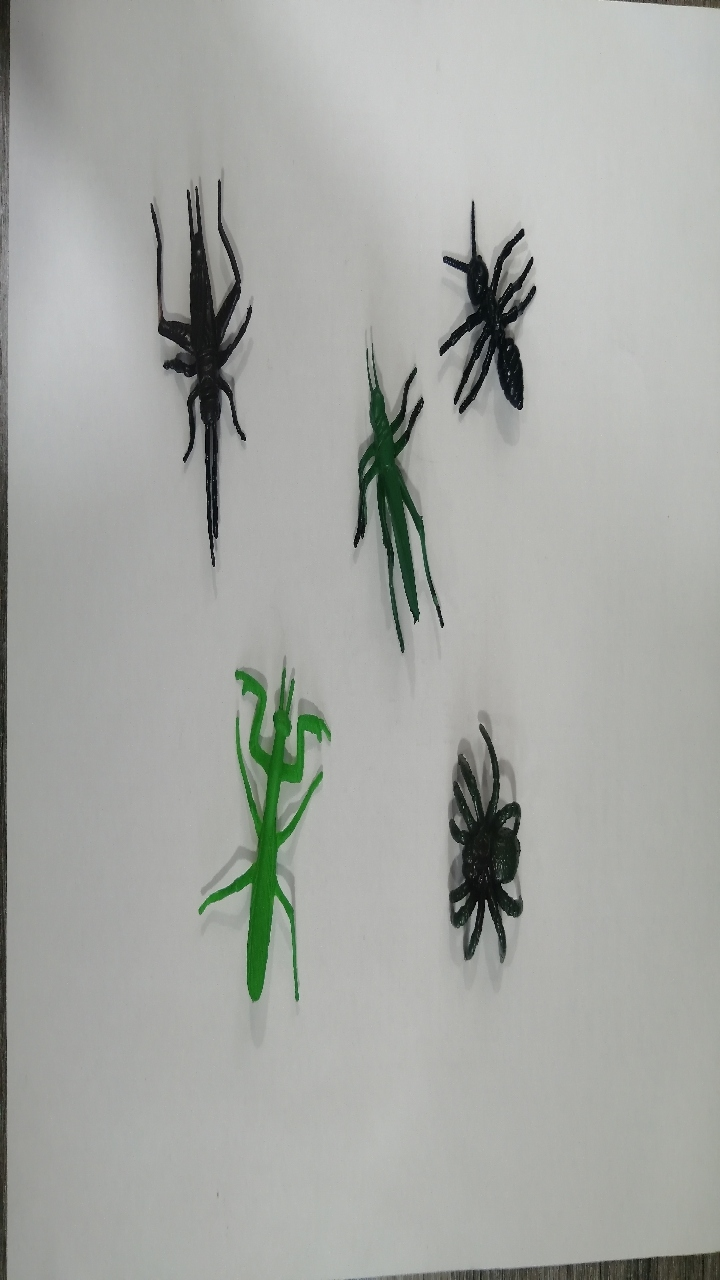intruso: (109, 160, 275, 591), (177, 651, 341, 1022), (308, 331, 474, 655), (403, 182, 561, 457), (403, 700, 543, 980)
